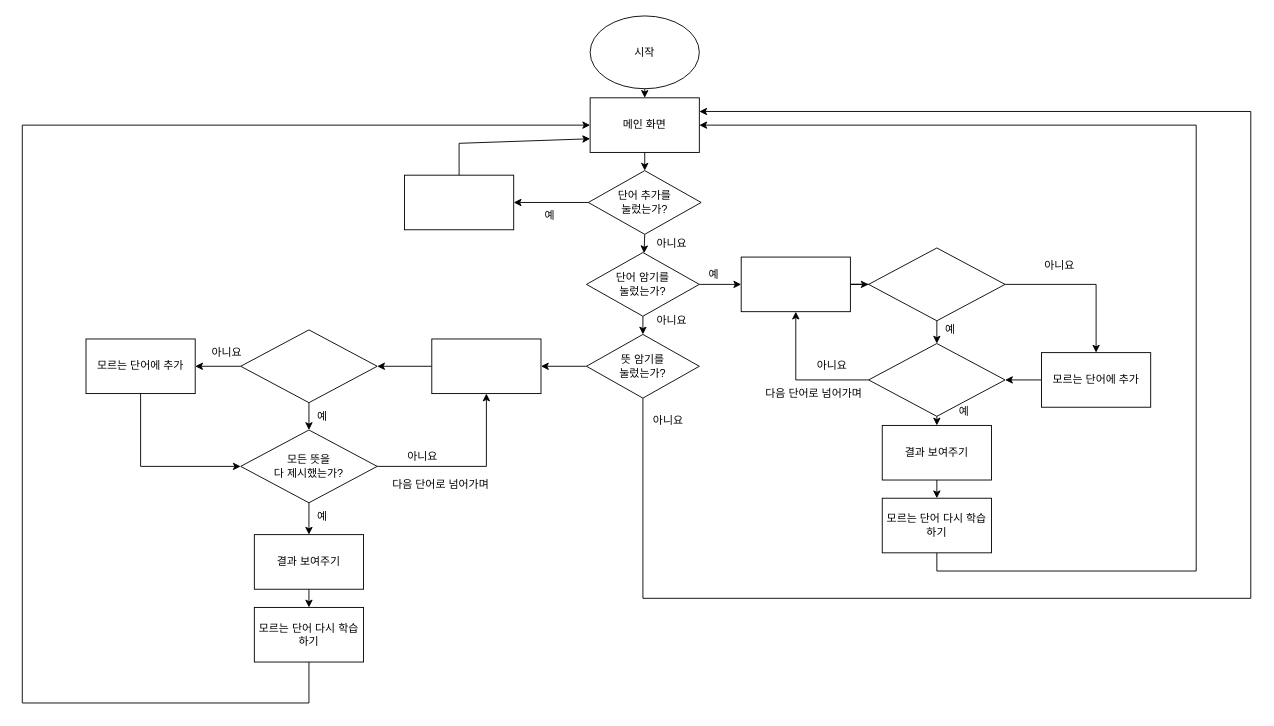
This 1274x726 diagram has some shape labels left out. The shapes that lost their labels are listed below. From the top down, each one's box as (x1, y1, x2, y2) in pixels, then its label:
(404, 174, 514, 230): 단어 뜻 입력받아 파일에 저장
(740, 256, 850, 312): 뜻 제시
(868, 247, 1005, 321): 단어를 맞췄는가?
(240, 329, 377, 403): 뜻을 맞췄는가?
(431, 338, 541, 394): 단어 제시
(868, 343, 1005, 416): 모든 단어를 다 제시했는가?
